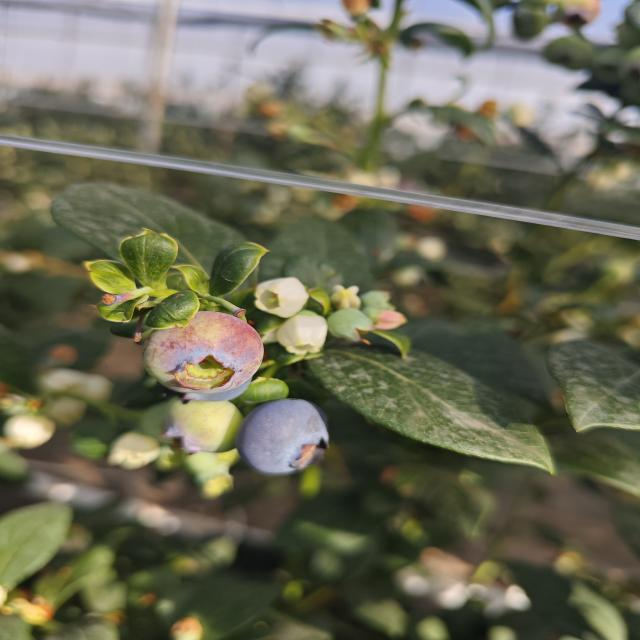ripe: (232, 396, 335, 475), (171, 364, 263, 404)
